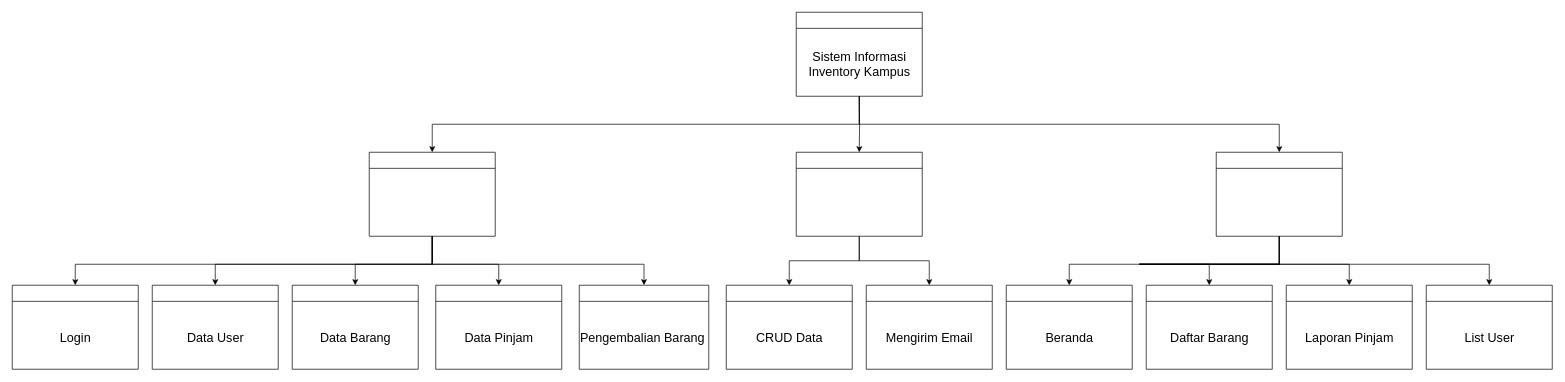
Some shapes in this 1565 by 382 pixel diagram are drawn without their labels. Here are the shapes that lost their labels. From the top down, the centre of each, then its label:
At point 432,194: "Input".
At point 859,194: "Proses".
At point 1279,194: "Output".
